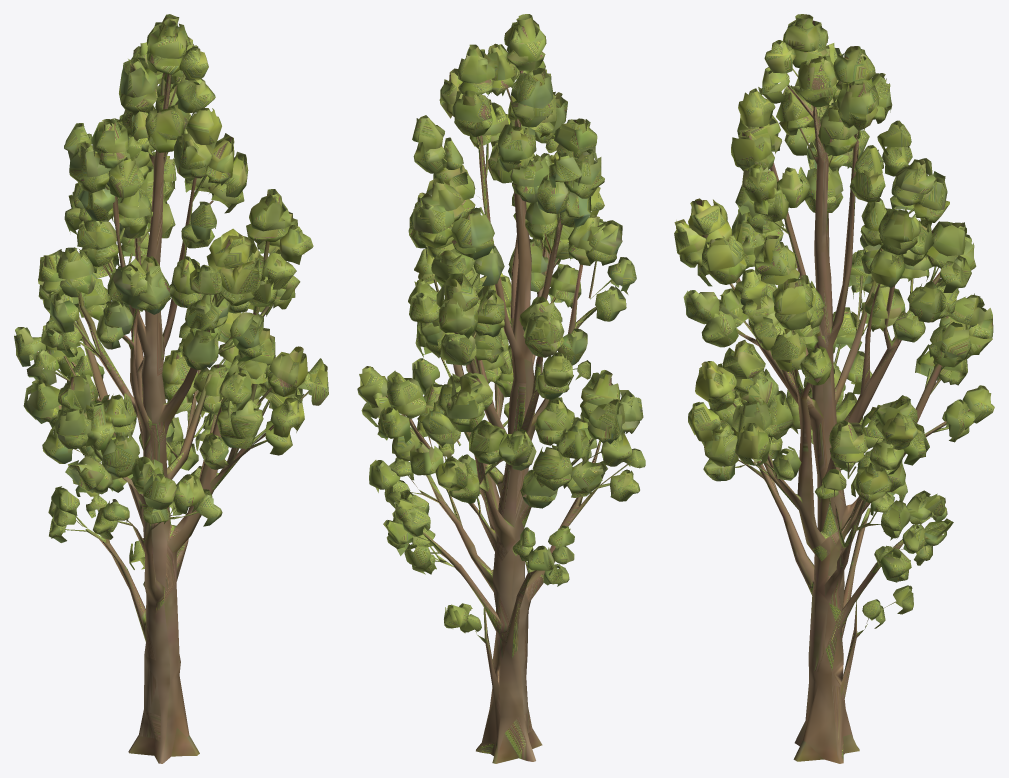
The model's file is tree-11.glb.
3 views of the same model, side by side, from view 1: azimuth 30°, elevation 25°; view 2: azimuth 150°, elevation 25°; view 3: azimuth 270°, elevation 25° (orthographic).
Size of the model in its own units: 0.3628 by 0.9995 by 0.397.
Materials: 1 (1 with a texture image).
